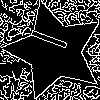I: (29, 26, 79, 56)
